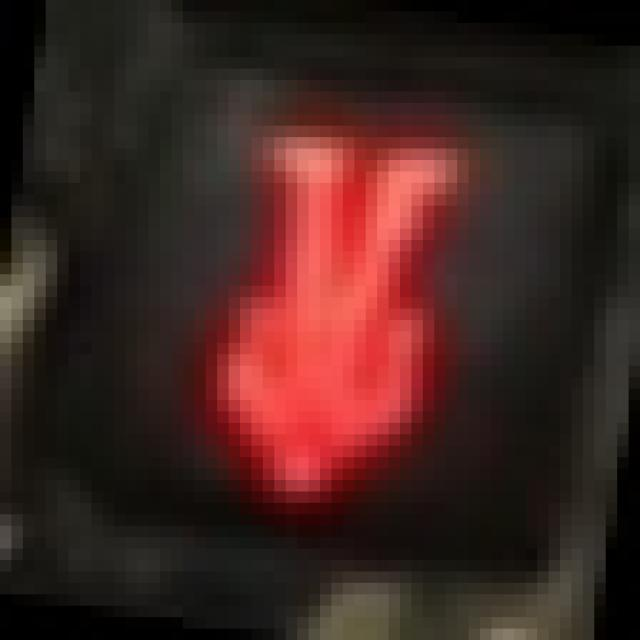red-crossing: (69, 60, 538, 552)
